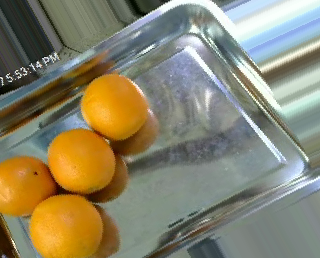Orange: (29, 192, 103, 258), (46, 127, 117, 195), (79, 72, 148, 140), (1, 154, 54, 217)
